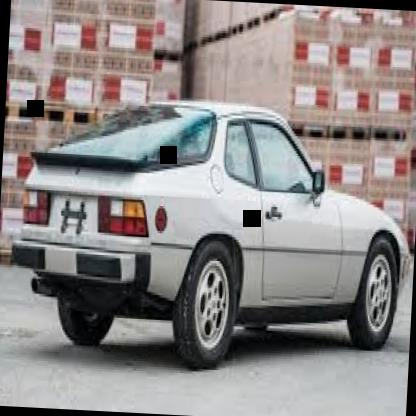car: (11, 60, 416, 387)
